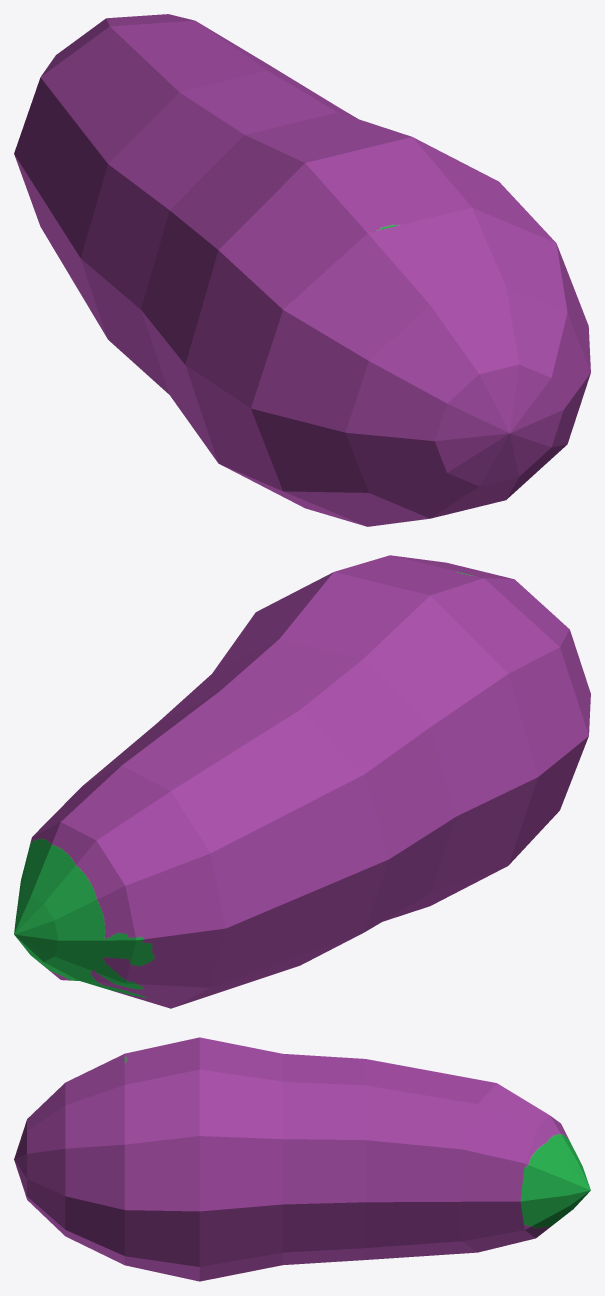
Rendered from Eggplant.fbx.
3 views of the same model, one above another, from view 1: azimuth 30°, elevation 25°; view 2: azimuth 150°, elevation 25°; view 3: azimuth 270°, elevation 25° (orthographic). The views are drawn at different scales.
Parts seen in each view (by area): view 1: Eggplant1; view 2: Eggplant1; view 3: Eggplant1.
Part boxes in pixels (left/top/right/bottom): Eggplant1: left=14, top=14, right=590, bottom=526; Eggplant1: left=14, top=555, right=590, bottom=1008; Eggplant1: left=14, top=1037, right=590, bottom=1281.
Bounding box in the file's own units: 46.22 × 43.95 × 108.
Materials: 1 (1 with a texture image).
